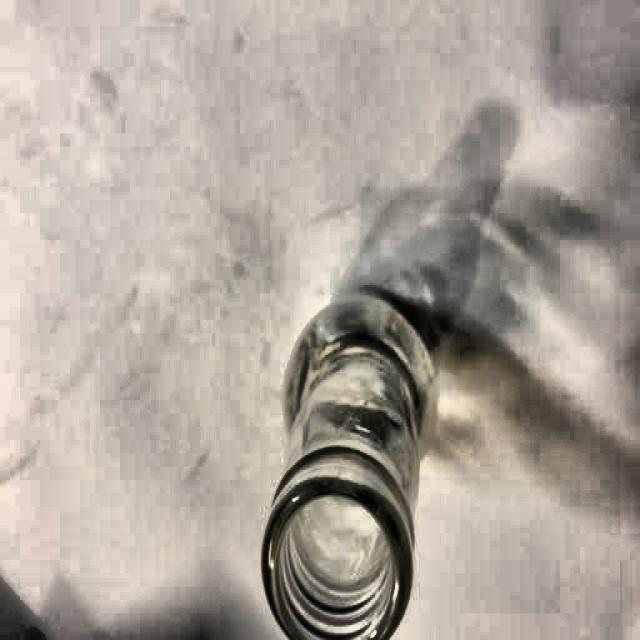glass: (262, 288, 442, 640)
